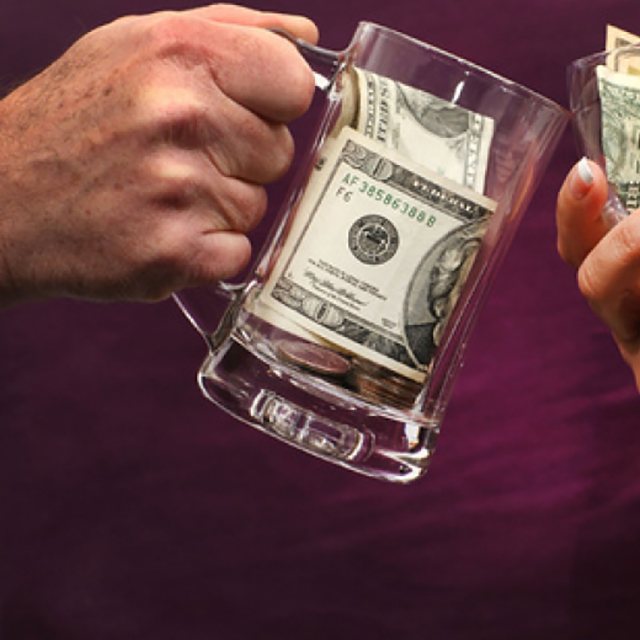banknotes: (258, 67, 495, 381), (597, 25, 640, 210)
